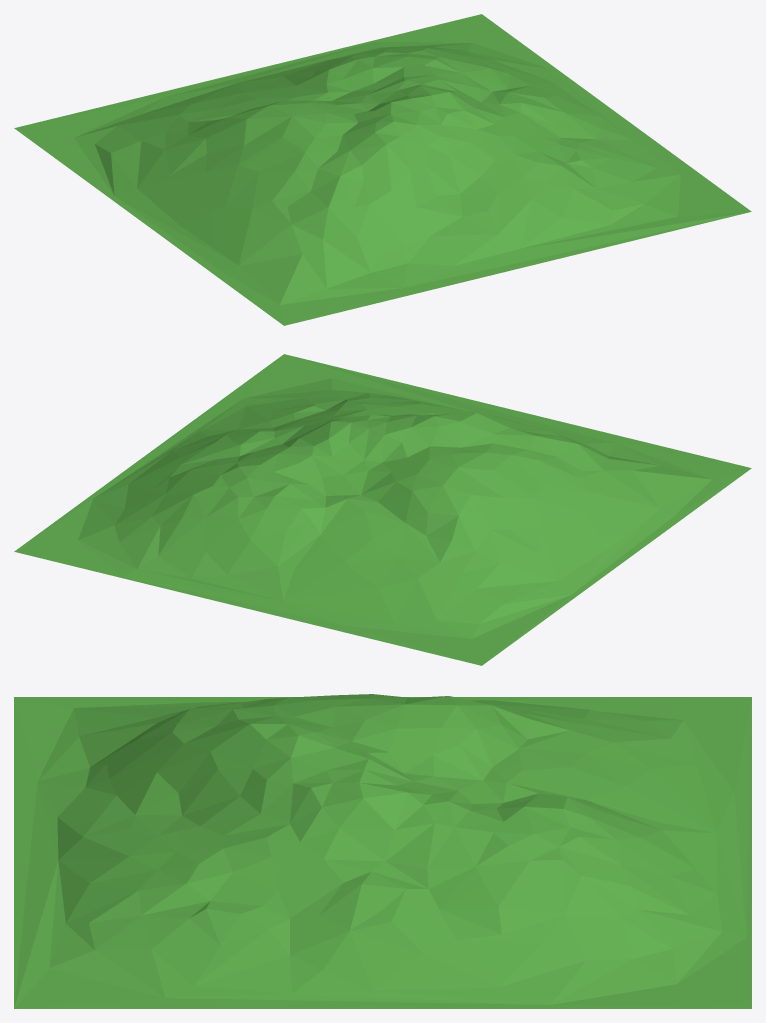
The model's file is hills1.obj.
The picture shows the model from 3 angles, top to bottom: view 1: azimuth 30°, elevation 25°; view 2: azimuth 150°, elevation 25°; view 3: azimuth 270°, elevation 25°; orthographic projection. The views are drawn at different scales.
Parts seen in each view (by area): view 1: hills01; view 2: hills01; view 3: hills01.
Part boxes in pixels (x1,y1,x2,y2): hills01: (14,14,751,325); hills01: (14,354,751,665); hills01: (14,694,751,1008).
Bounding box in the file's own units: 20 × 3.1 × 20.
1 material, 1 textured.
